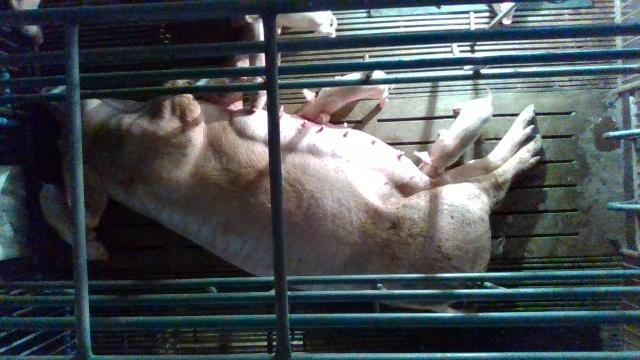piglet: (415, 86, 492, 179), (41, 183, 110, 262), (299, 70, 393, 121), (242, 18, 280, 112), (246, 10, 337, 40)
sow-sleep-lactate: (39, 84, 540, 308)
